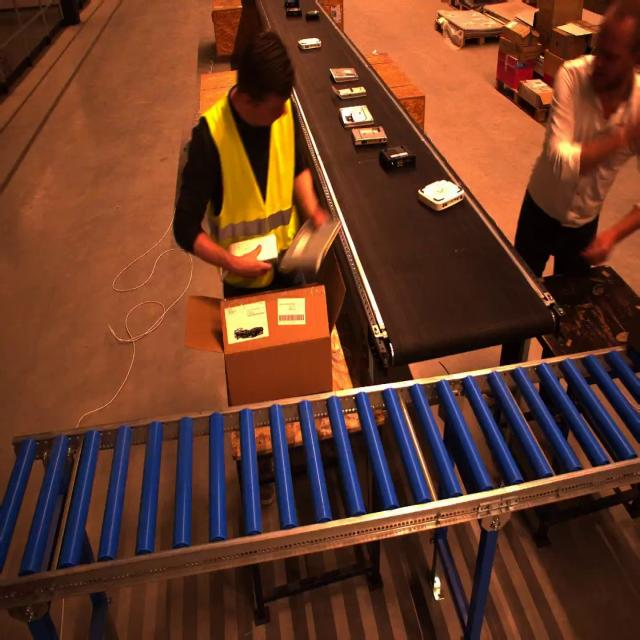box: (183, 252, 344, 403)
product: (279, 215, 340, 277), (224, 231, 280, 275), (225, 232, 285, 270), (416, 179, 462, 211), (338, 104, 374, 128), (379, 146, 414, 169), (351, 126, 387, 147), (555, 22, 596, 37), (331, 83, 365, 99), (329, 67, 358, 83), (297, 36, 321, 50), (286, 7, 302, 18), (306, 10, 320, 20), (284, 0, 298, 8)
